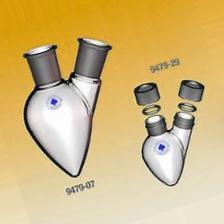Pear shaped flask: (18, 22, 111, 180), (131, 63, 204, 186)
